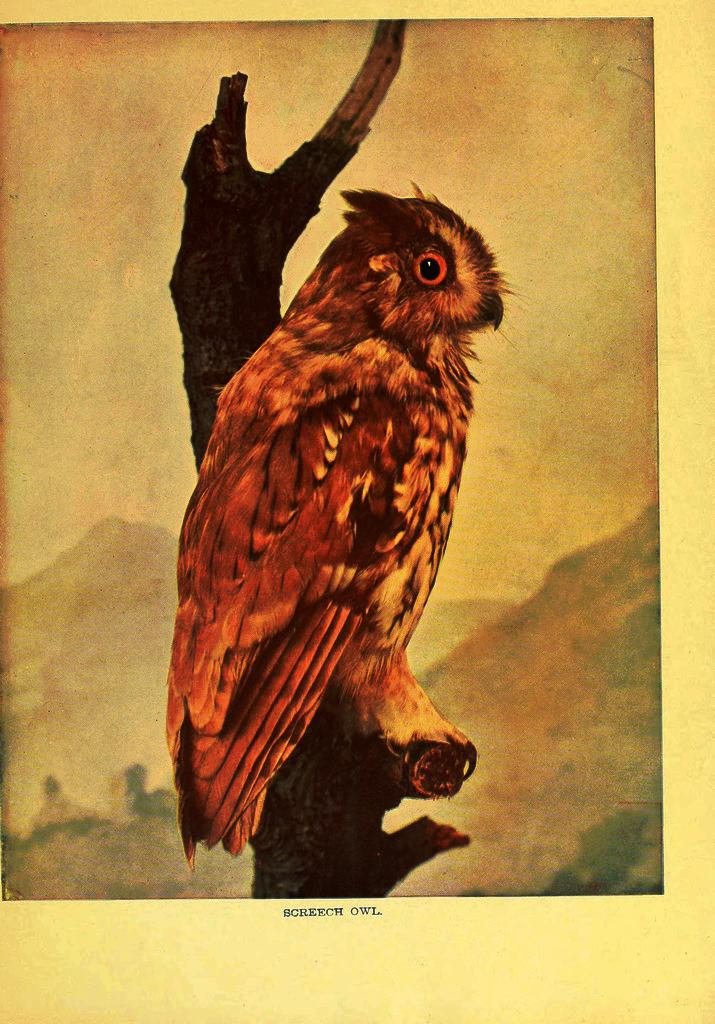Owl: (166, 179, 513, 864)
